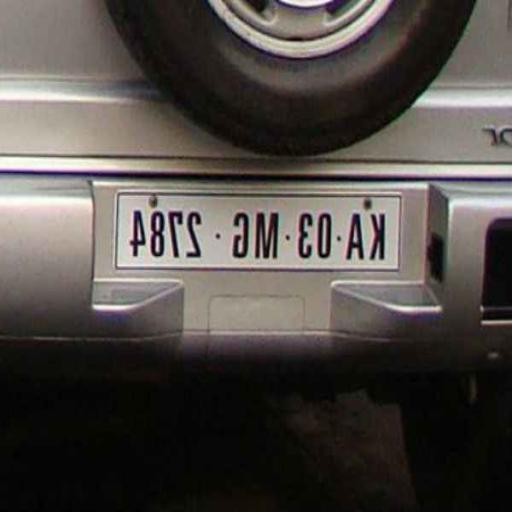License: (120, 192, 410, 260)
